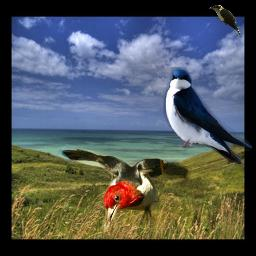Cuckoo: (209, 5, 240, 36)
Swallow: (163, 67, 252, 164)
Woodpecker: (53, 141, 192, 236)
